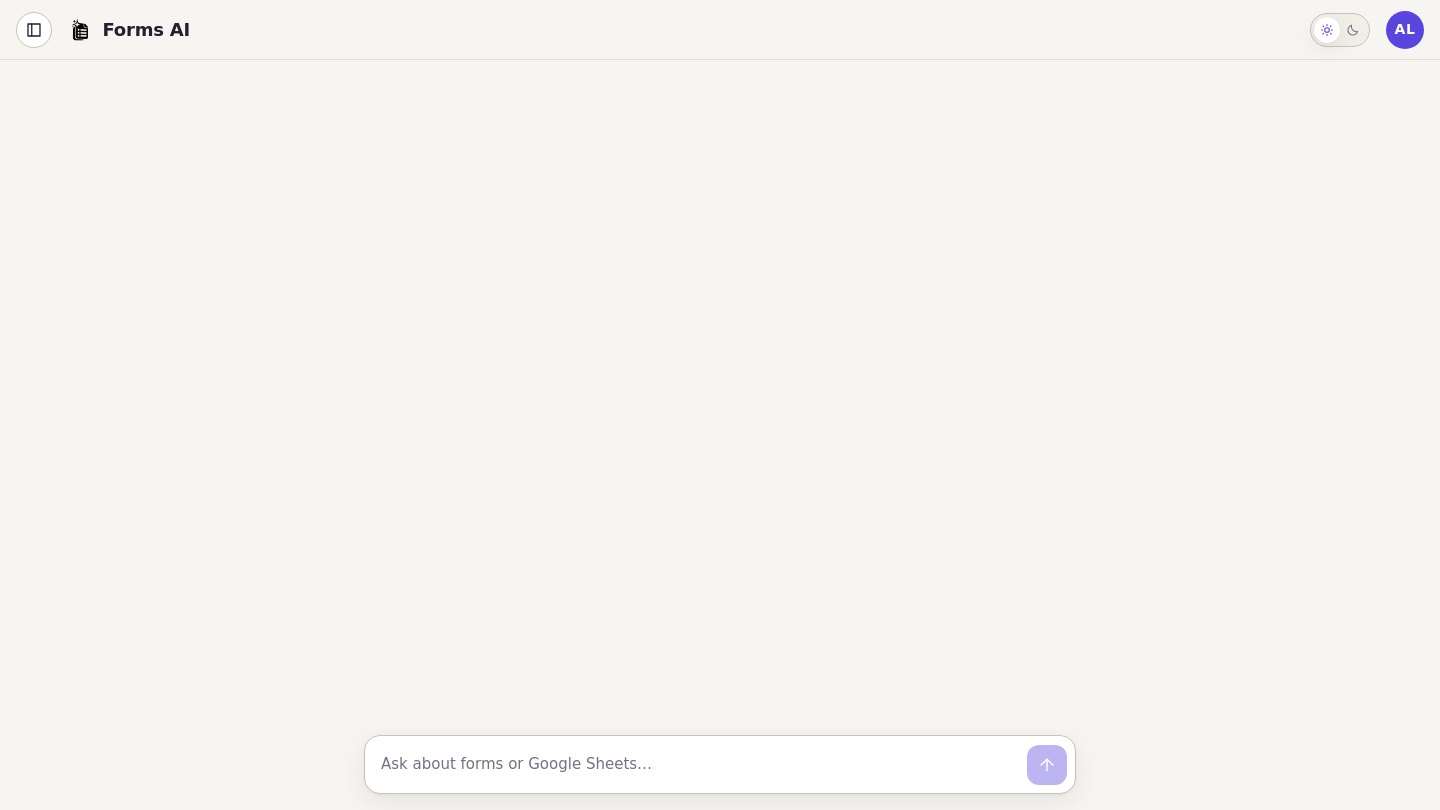
Test: chat history deletion › permanently deletes exactly once after five seconds and removes the conversation
This screenshot has width=1440, height=810.
Click the button named "Open sidebar".
click(34, 30)  # box [16,12,52,48]
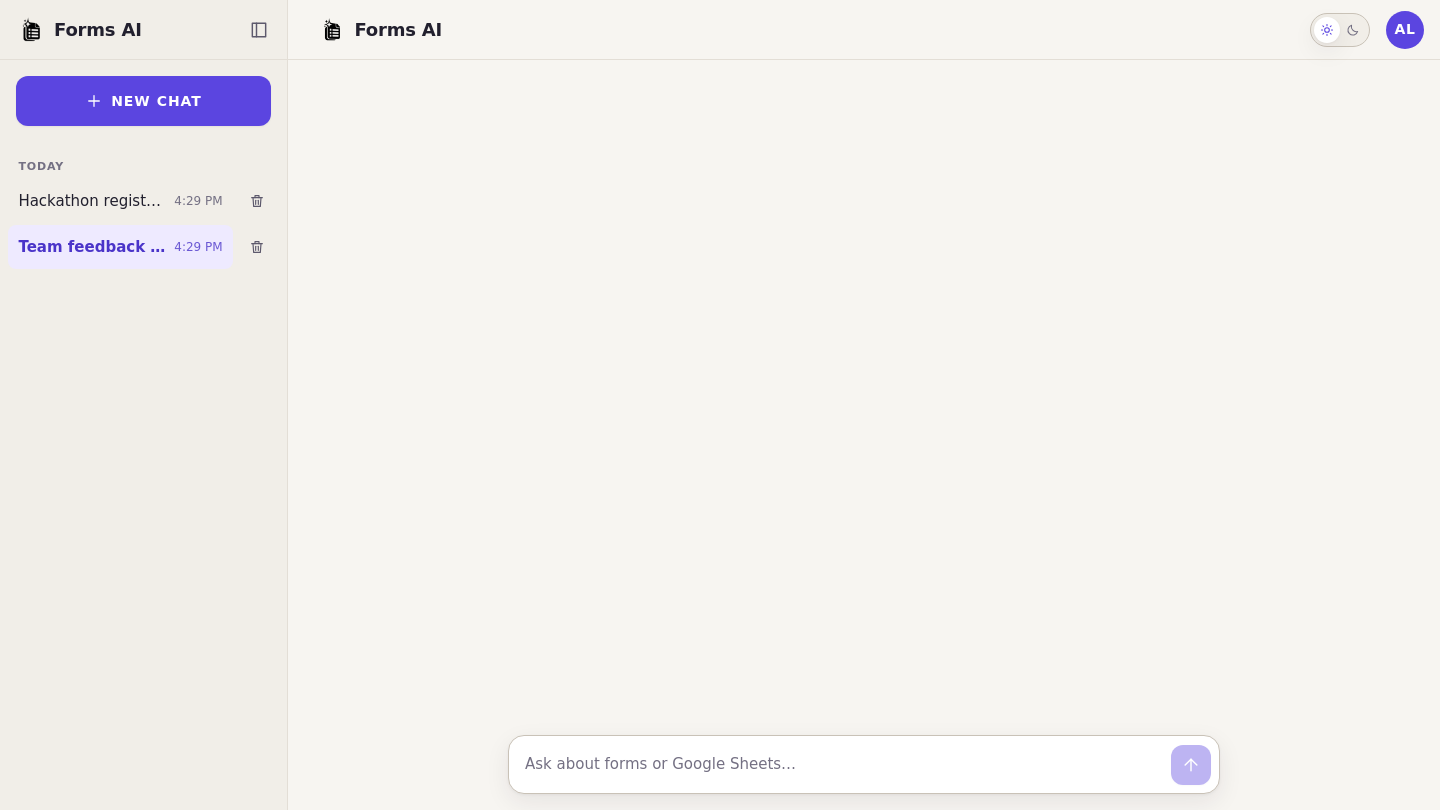
Expected: the text "Hackathon registration" is shown, [18,190,166,213]
Click the button named "Delete chat “Hackathon registration”".
click(257, 201)  # box [235,179,279,223]
Wait 15000 ms
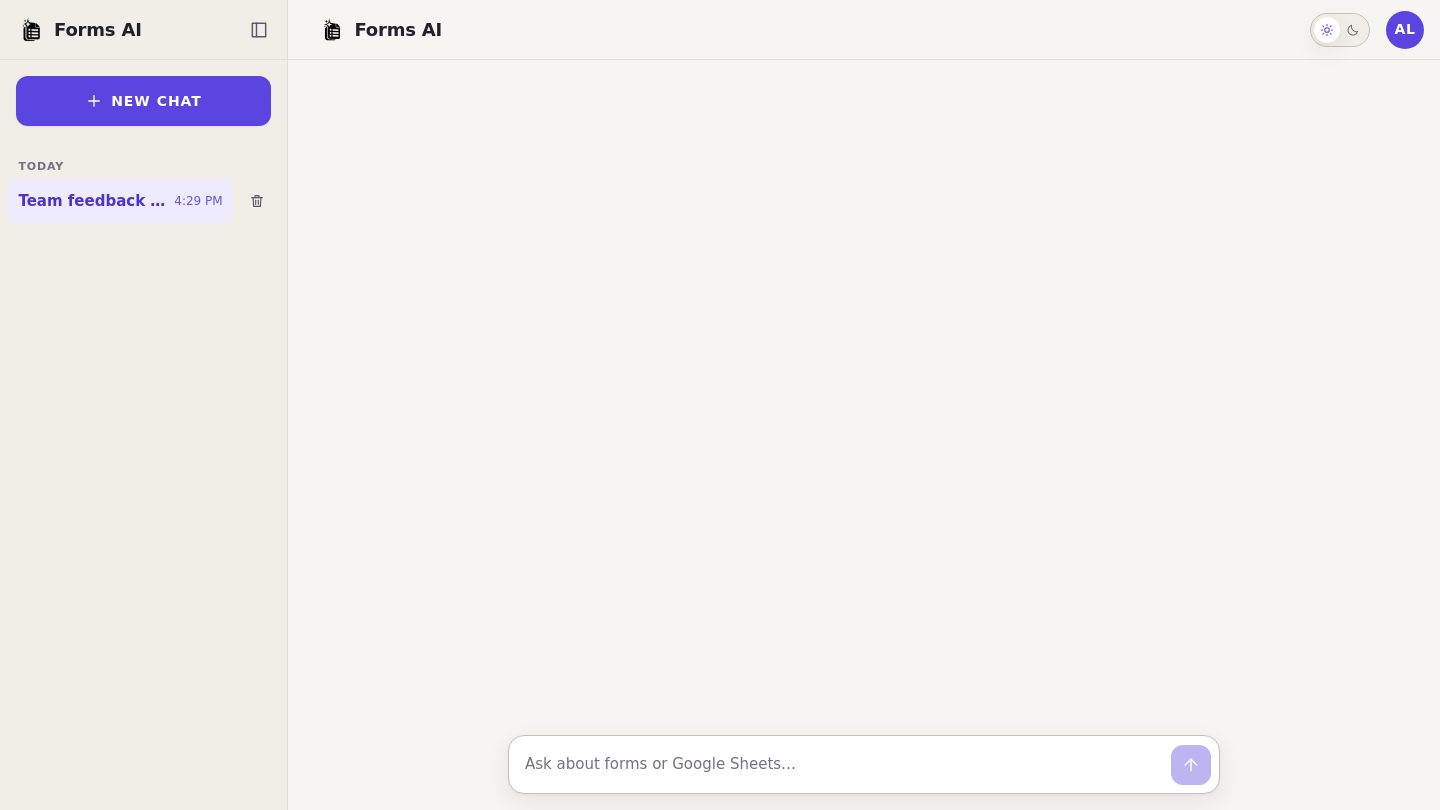
Expected: the text "Team feedback survey" is shown, [18,190,166,213]
Expected: the link "Hackathon registration" is gone
